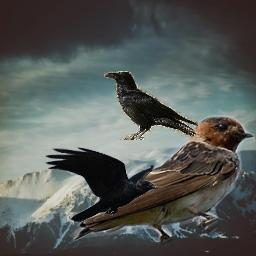Crow: (44, 146, 159, 222), (104, 71, 198, 140)
Swallow: (69, 113, 255, 248)
